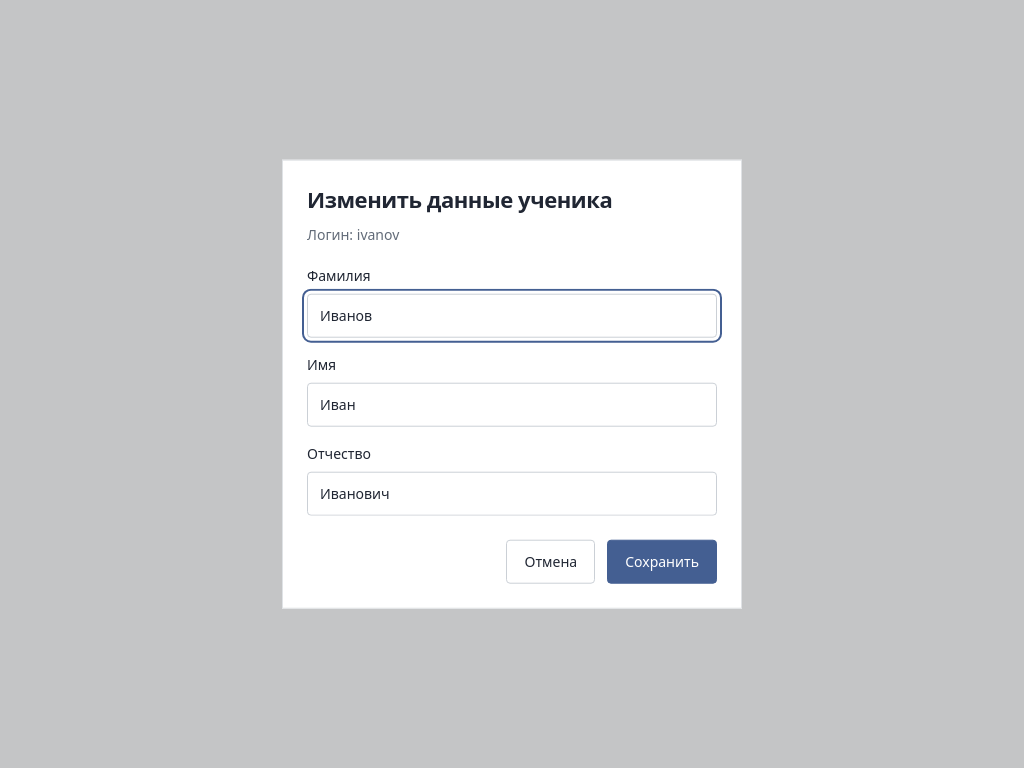
Test: keeps input and the dialog on a conflict and blocks empty names
Clear the field labelled "Имя". click: [512, 404]
box: [307, 382, 717, 426]
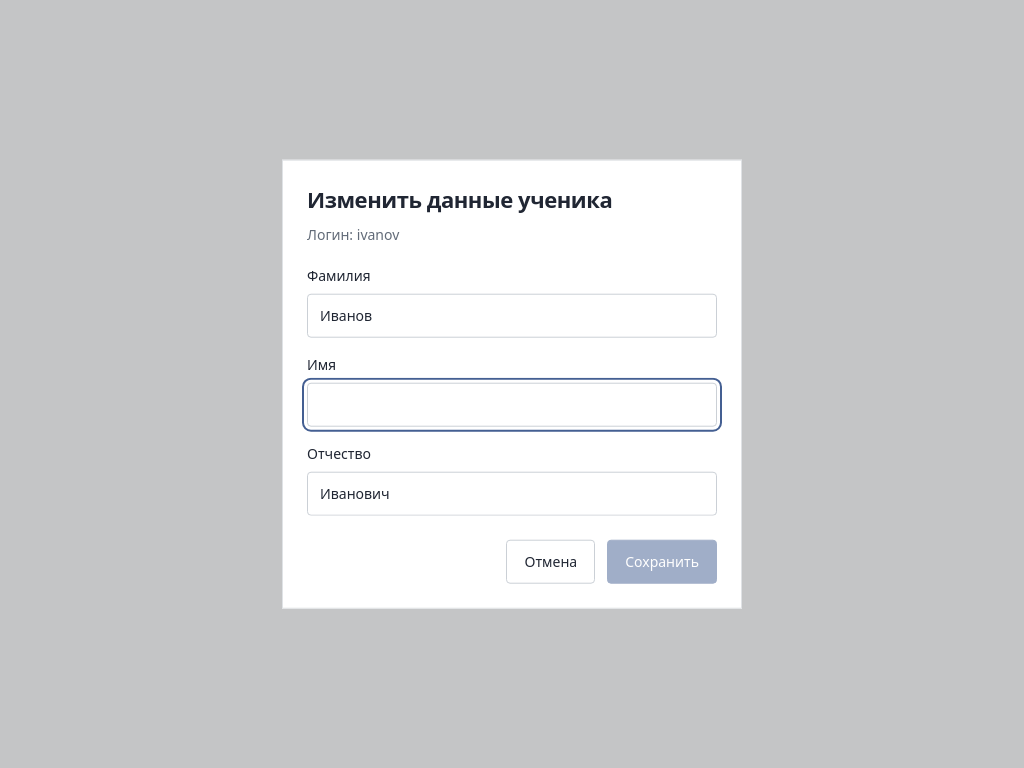
Expected: the button "Сохранить" is disabled, [607, 539, 717, 583]
Type "Пётр" into the field labelled "Имя". click: [512, 404]
box: [307, 382, 717, 426]
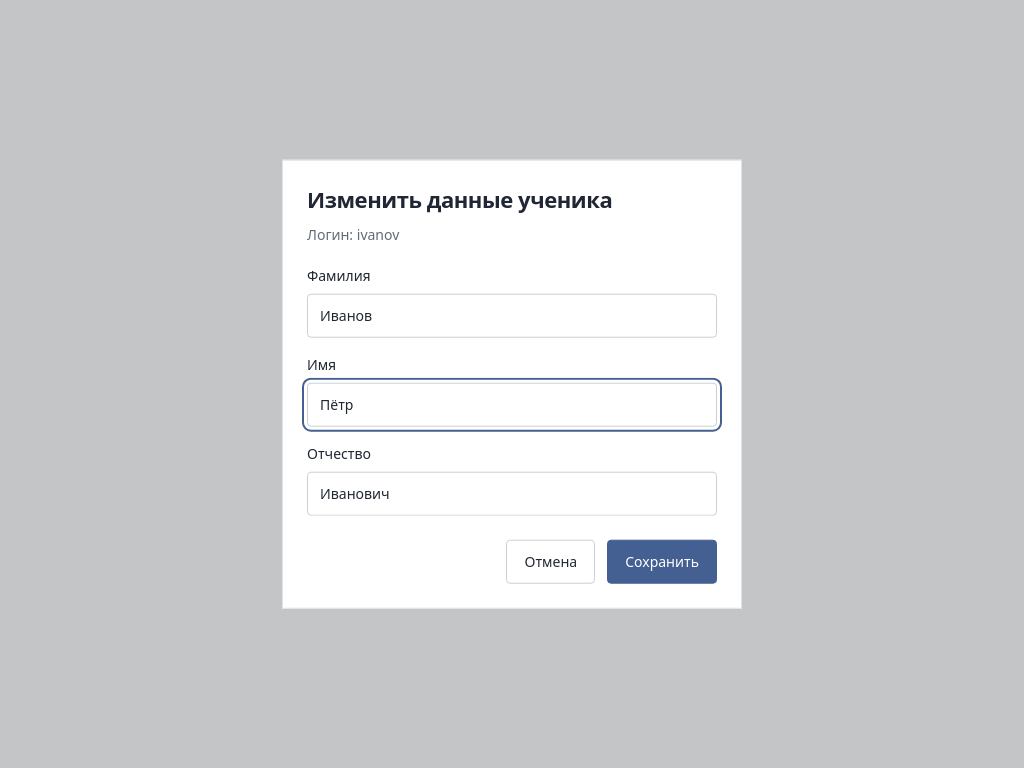
Click the button "Сохранить". click: [662, 561]
box: [607, 539, 717, 583]
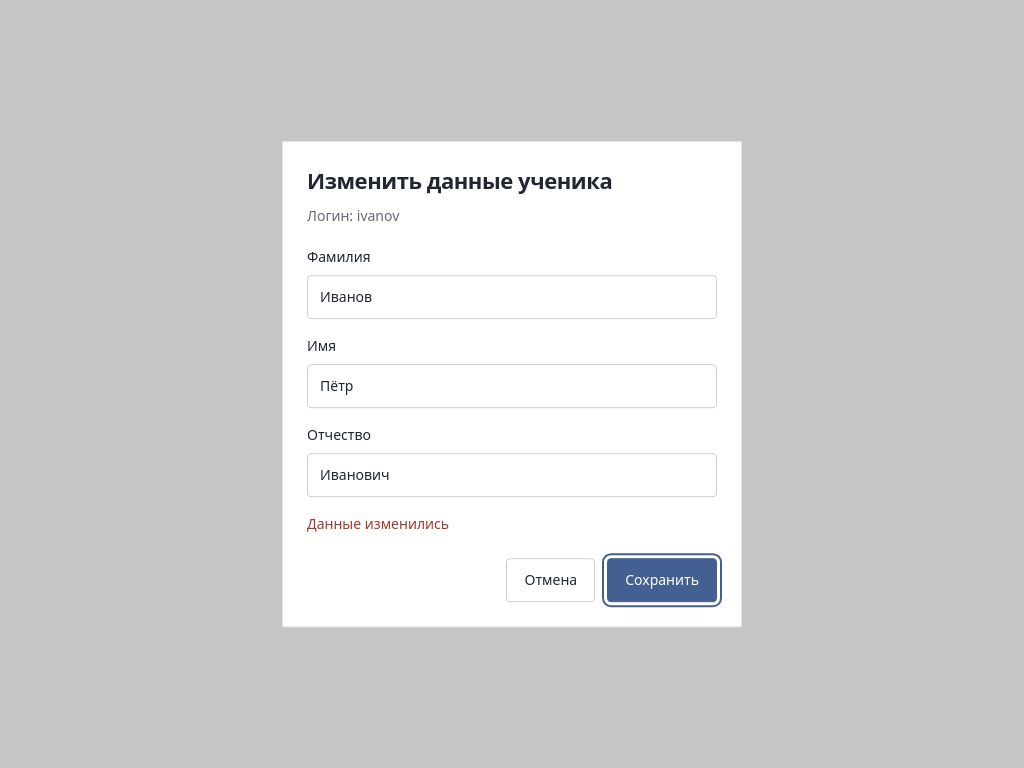
Expected: the message reads "Данные изменились", [307, 514, 449, 533]
